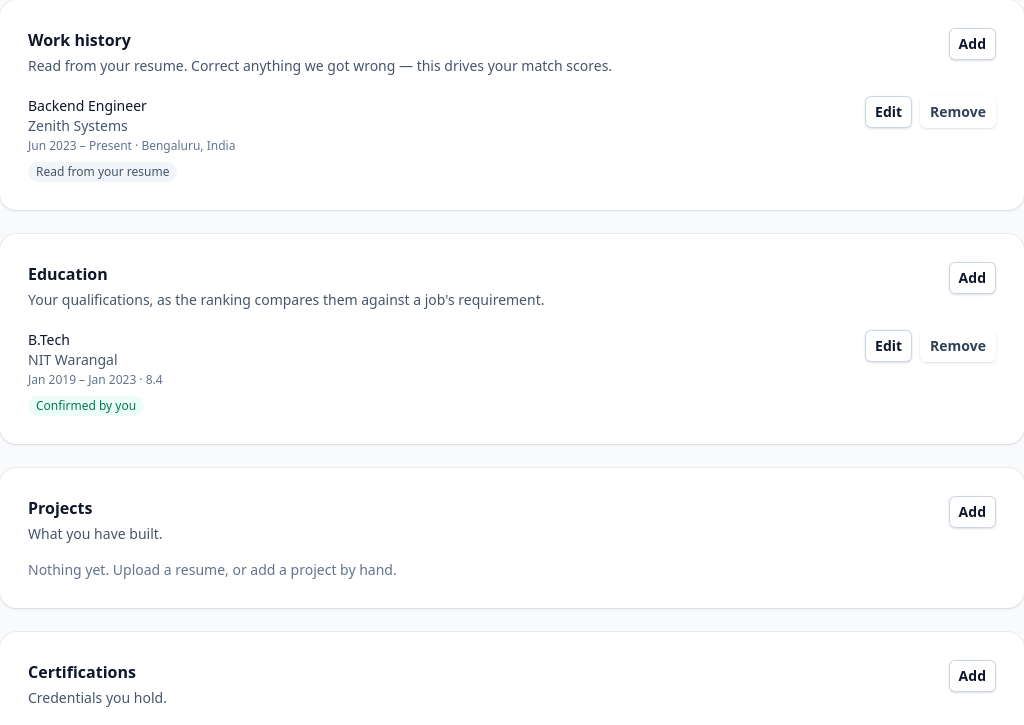
it: CareerProfile › an ongoing entry › hides the end date while the entry is current
Expected: the text "Backend Engineer" is shown, left=28, top=96, right=147, bottom=115
Click the button "Edit" in the row of "Backend Engineer": (889, 112) left=865, top=96, right=912, bottom=128
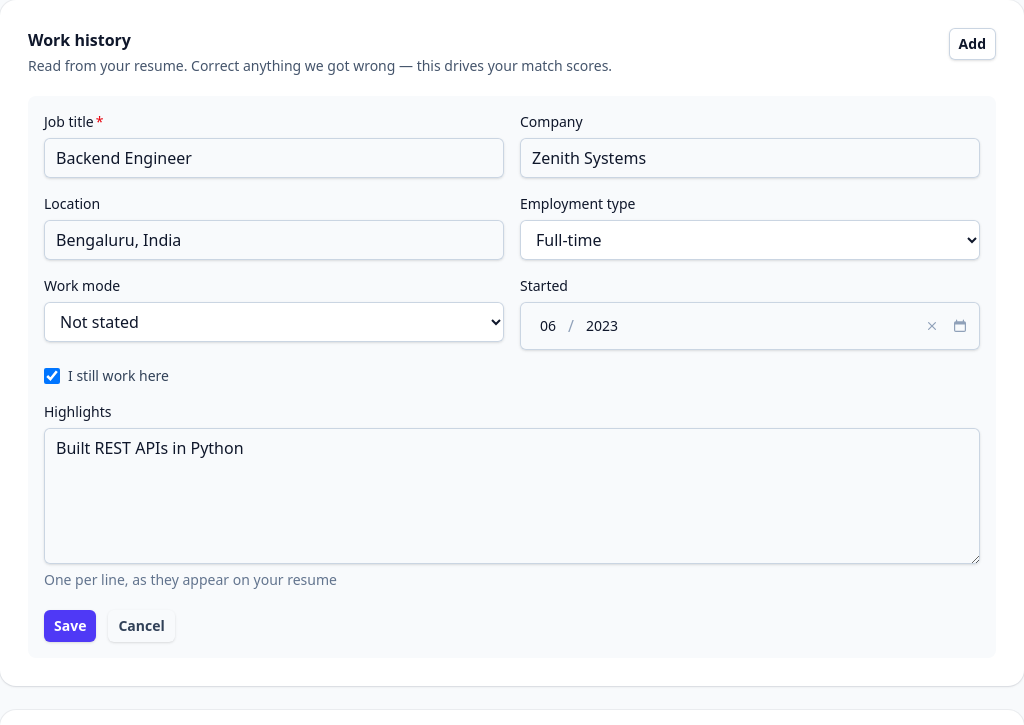
Click the checkbox labelled "I still work here": (52, 376) left=44, top=368, right=60, bottom=384
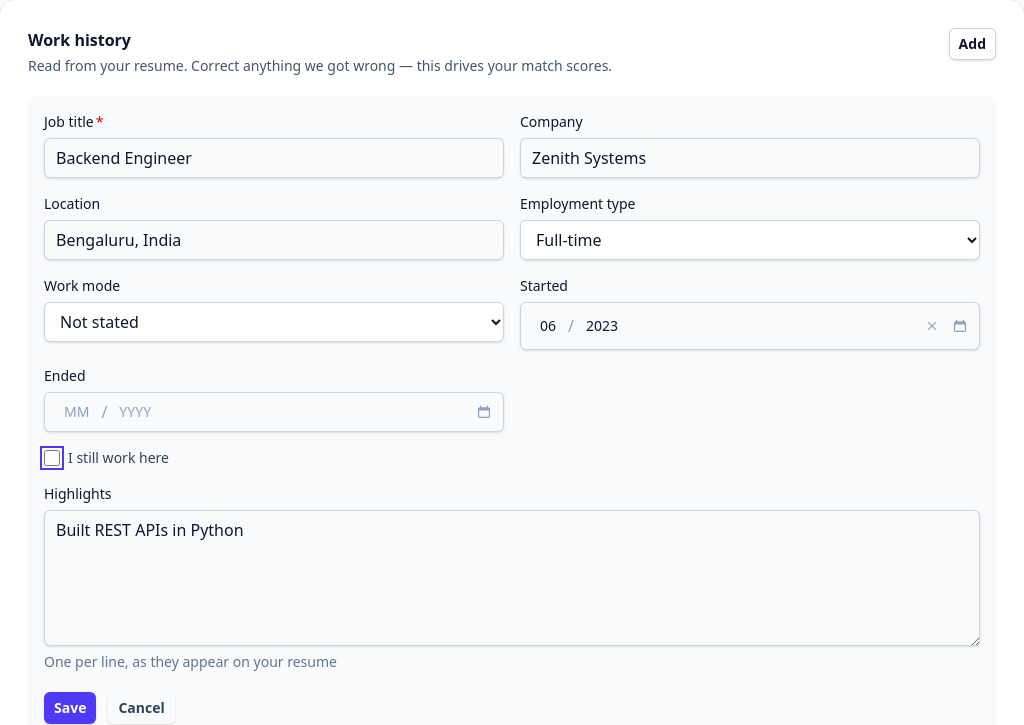
Result: the button with aria-label "Ended year" is shown at left=111, top=402, right=159, bottom=422
